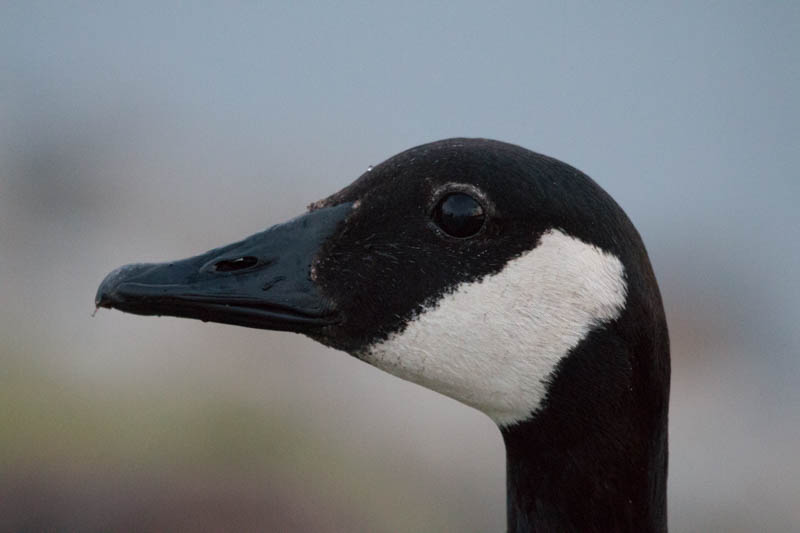goose-head: (95, 139, 671, 430)
